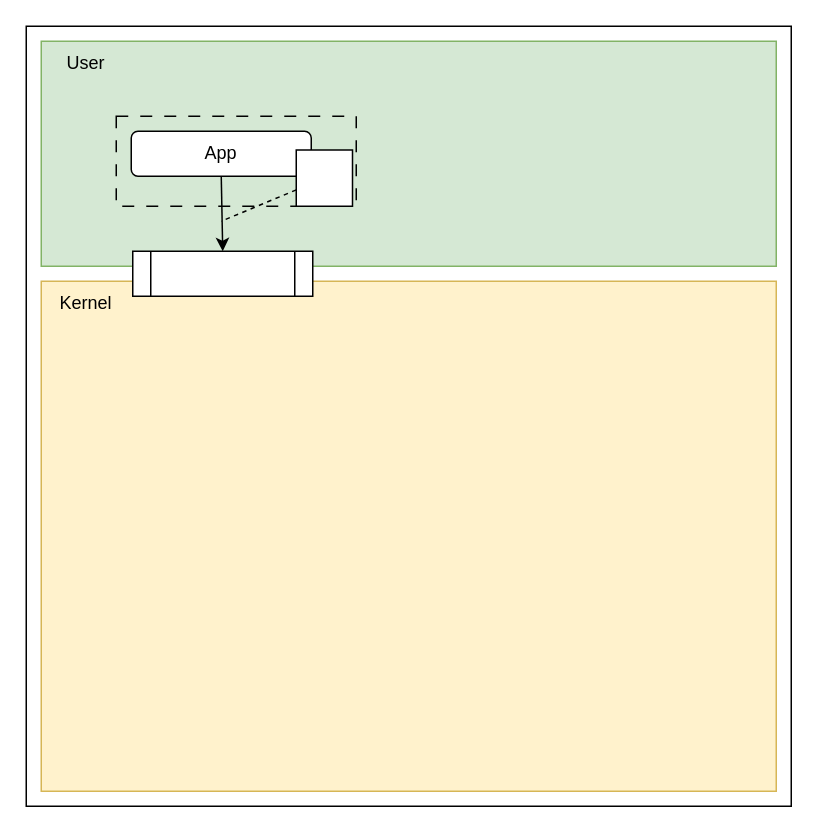
The diagram is 818 pixels wide and 833 high, and some of its shapes have lost their labels. Here are the shapes that lost their labels. From the top down, the box of each, then its label:
(295, 148, 352, 206): eBPF
(131, 250, 313, 296): BPF System Call
